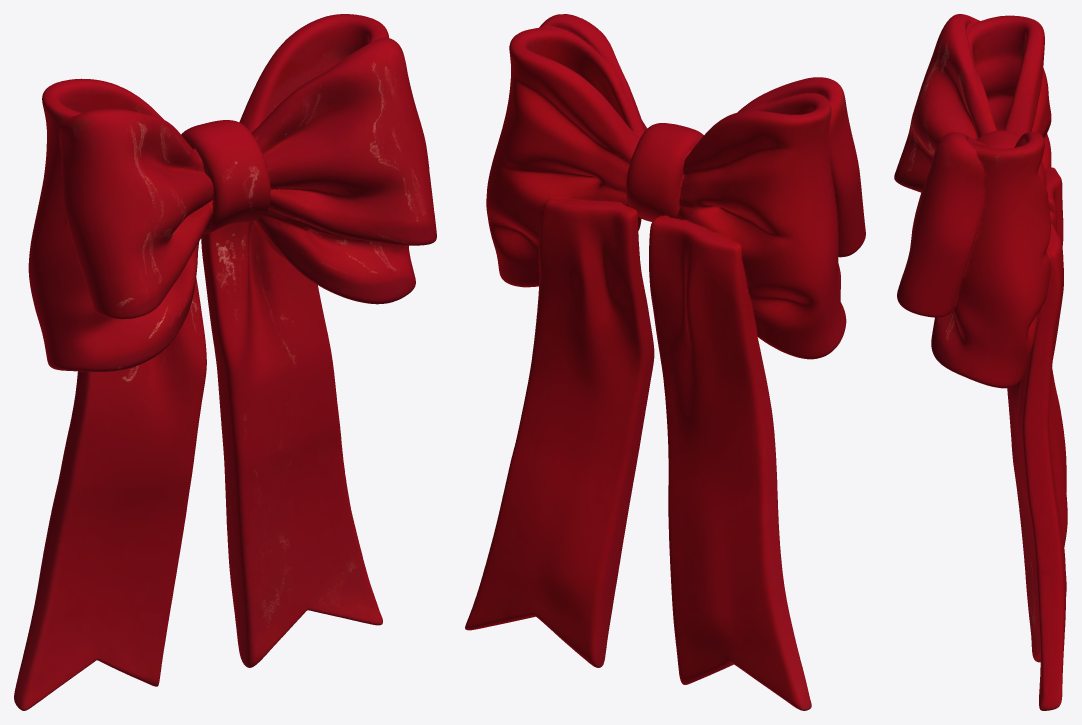
Rendered from Fiocco.glb.
3 views of the same model, side by side, from view 1: azimuth 30°, elevation 25°; view 2: azimuth 150°, elevation 25°; view 3: azimuth 270°, elevation 25° (orthographic). The views are drawn at different scales.
Size of the model in its own units: 1.14 by 1.9 by 0.5319.
Materials: 1 (1 with a texture image).
